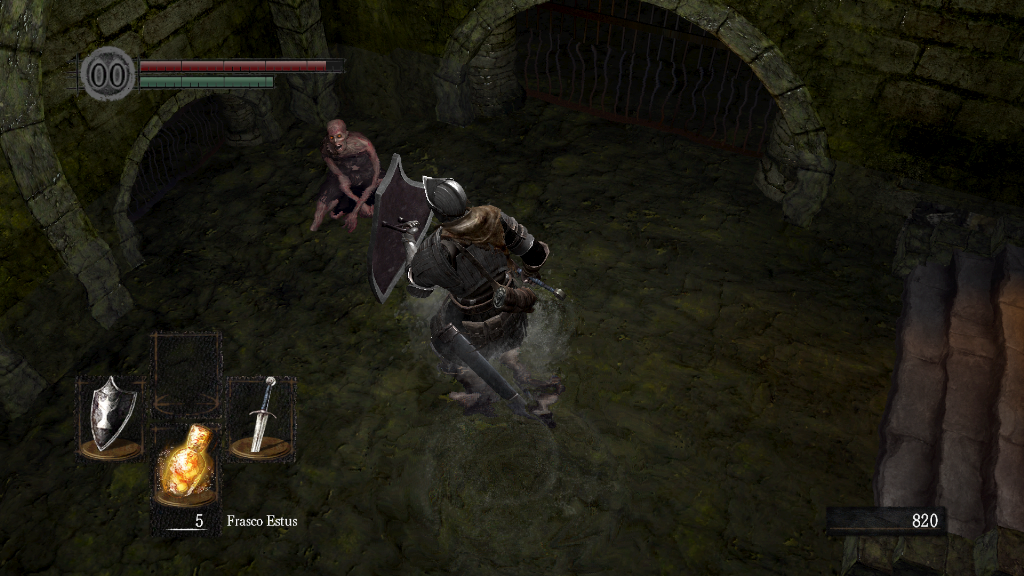health: (138, 58, 343, 71)
hollow: (310, 118, 390, 232)
humanity: (80, 45, 136, 102)
player: (369, 152, 568, 413)
souls: (825, 506, 945, 536)
stamina: (138, 74, 274, 88)
